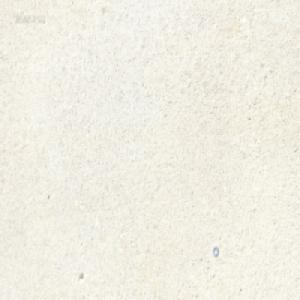Washer: (212, 246, 218, 257)
